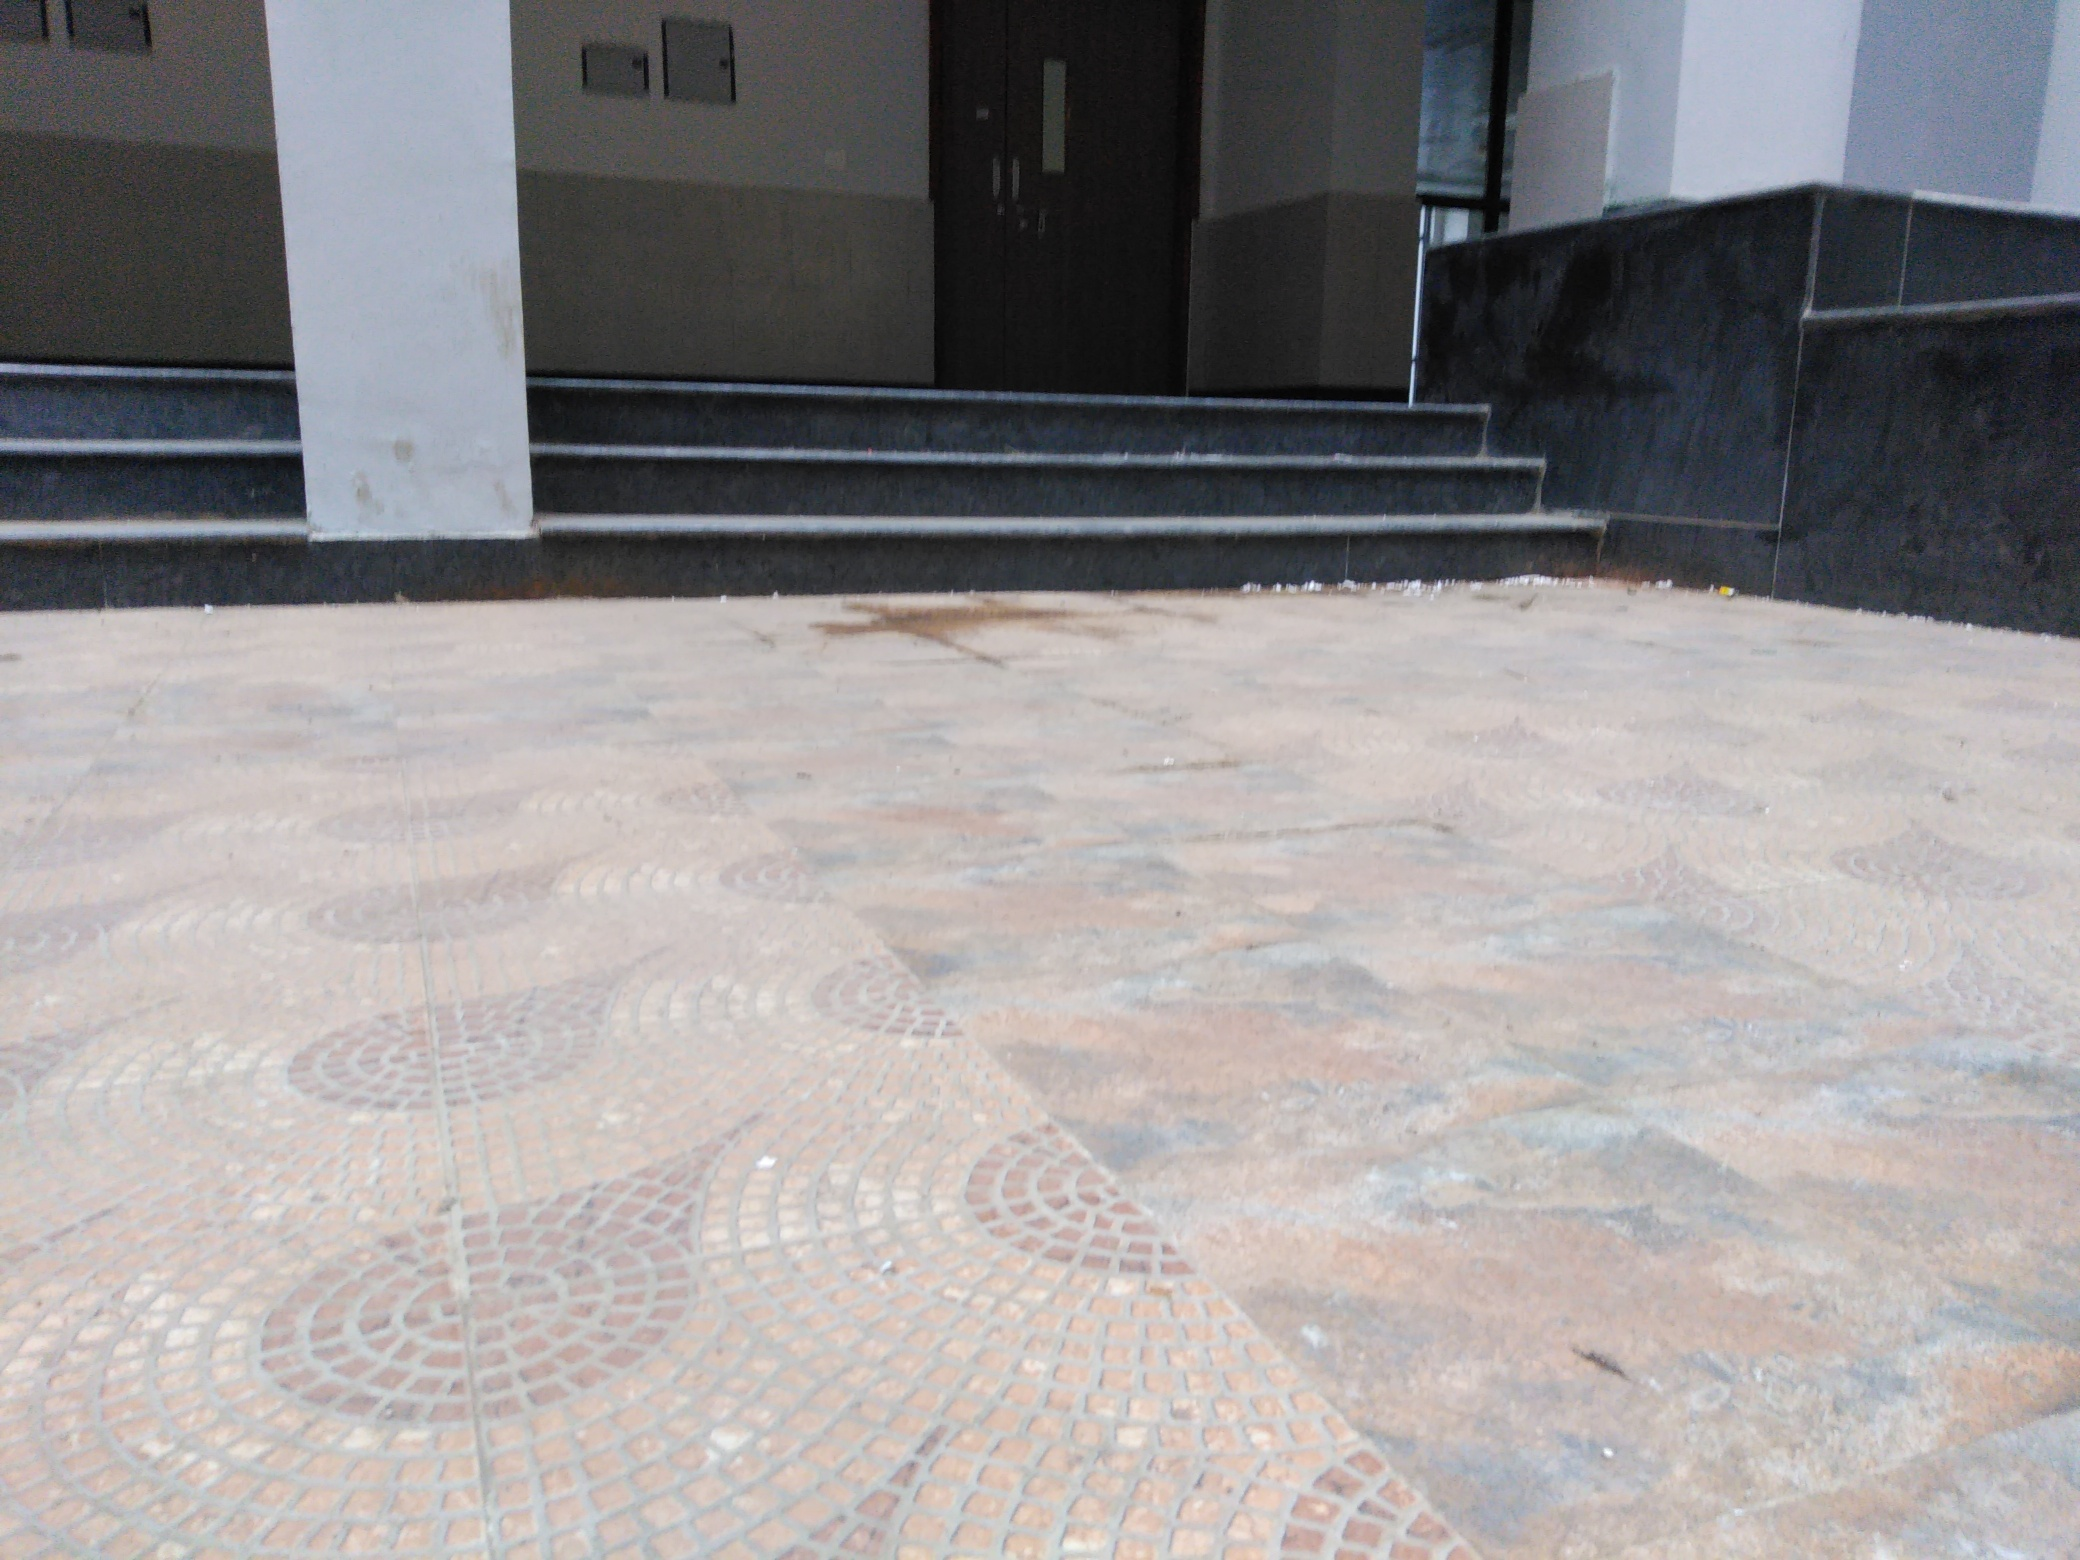stairs_up: (2, 372, 1594, 628)
